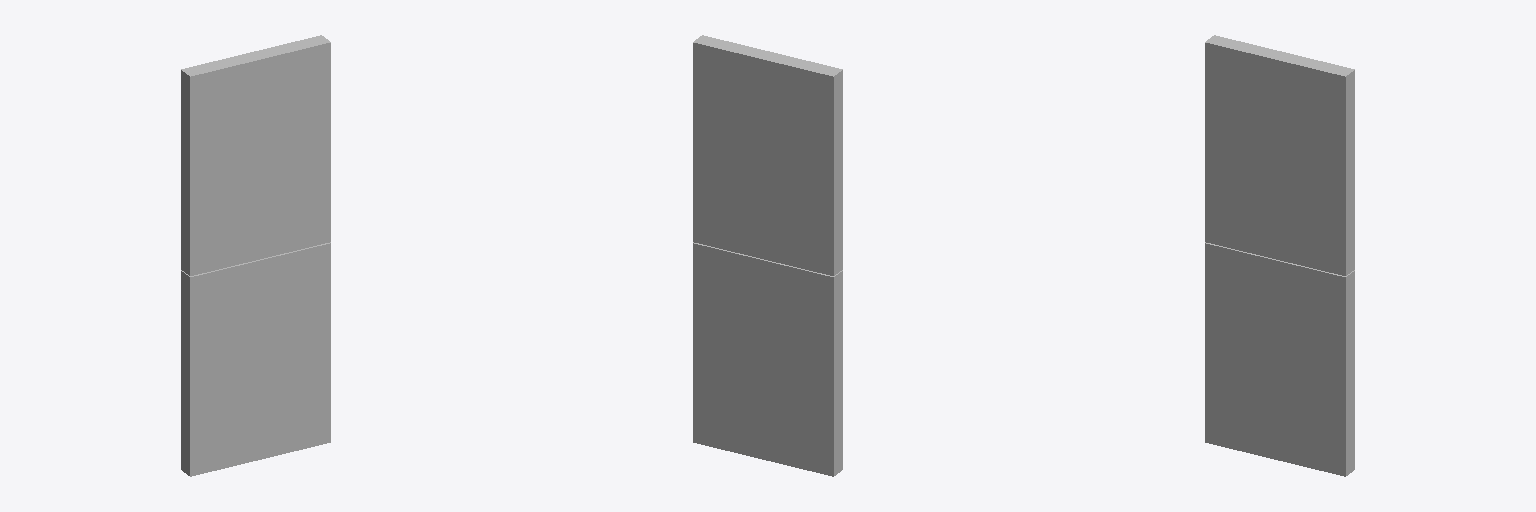
Rendered from boxsms.obj.
The picture shows the model from 3 angles: view 1: azimuth 30°, elevation 25°; view 2: azimuth 150°, elevation 25°; view 3: azimuth 330°, elevation 25°; orthographic projection.
Visible parts, largest first — view 1: boxnes_boxgb_box.003; view 2: boxnes_boxgb_box.003; view 3: boxnes_boxgb_box.003.
Part boxes in pixels (left/top/right/bottom): boxnes_boxgb_box.003: left=181, top=35, right=330, bottom=476; boxnes_boxgb_box.003: left=693, top=35, right=842, bottom=476; boxnes_boxgb_box.003: left=1205, top=35, right=1354, bottom=476.
Bounding box in the file's own units: 1.56 × 4.22 × 0.1872.